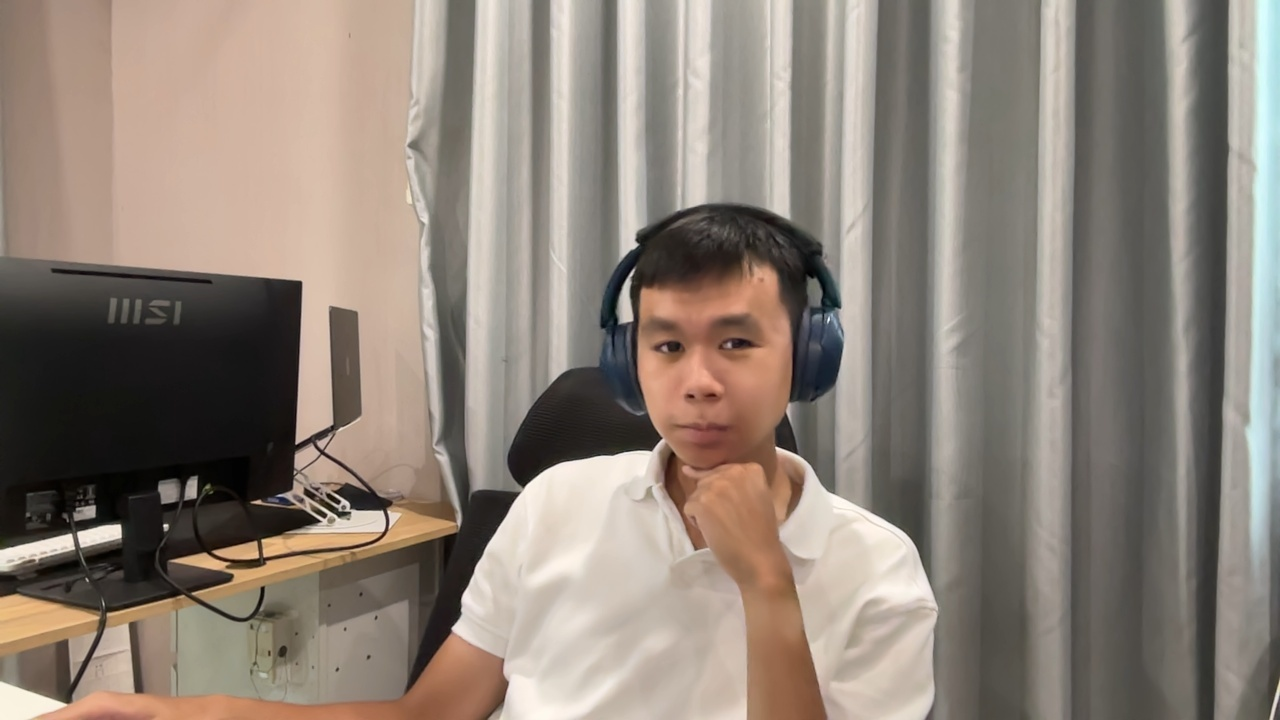over_ear: (596, 204, 847, 420), (596, 202, 846, 413)
